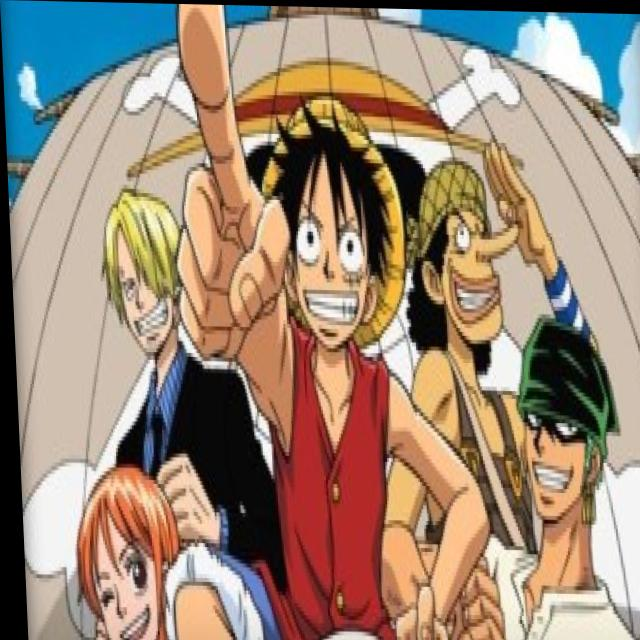Luffy: (247, 82, 407, 353)
Nami: (62, 443, 172, 640)
Sangdi: (86, 169, 194, 369)
Usopp: (399, 146, 519, 353)
Zoro: (505, 322, 628, 540)
